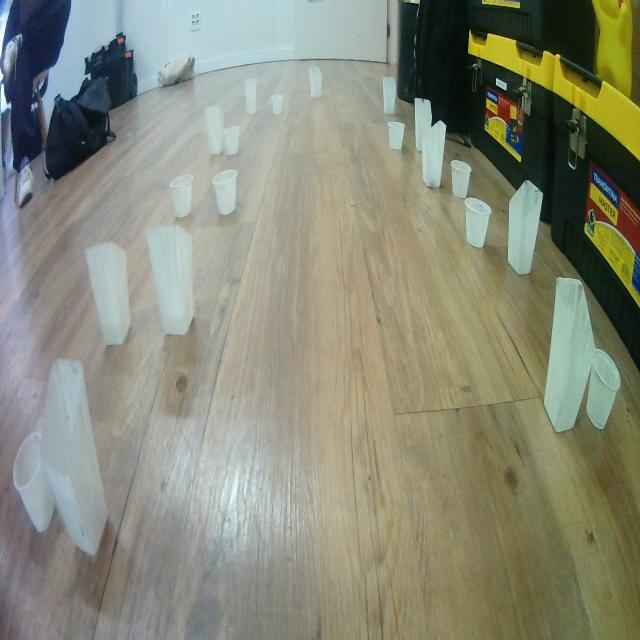erva_daninha: (39, 356, 108, 557), (543, 277, 596, 434), (146, 224, 195, 337), (85, 239, 131, 347), (507, 180, 543, 276), (421, 120, 447, 189), (205, 103, 224, 157), (414, 98, 433, 152), (382, 76, 396, 115), (245, 76, 257, 115), (309, 66, 322, 99)
planta: (12, 432, 57, 534), (586, 349, 622, 431), (464, 198, 492, 250), (212, 169, 238, 216), (170, 173, 194, 219), (450, 160, 472, 198), (222, 125, 240, 156), (387, 122, 406, 151), (271, 95, 284, 116)
